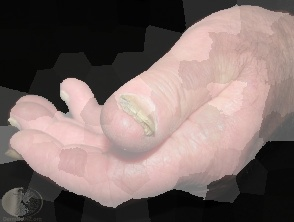Nail_psoriasis: (104, 76, 178, 145), (3, 146, 27, 162), (6, 116, 23, 130), (56, 89, 69, 101)
